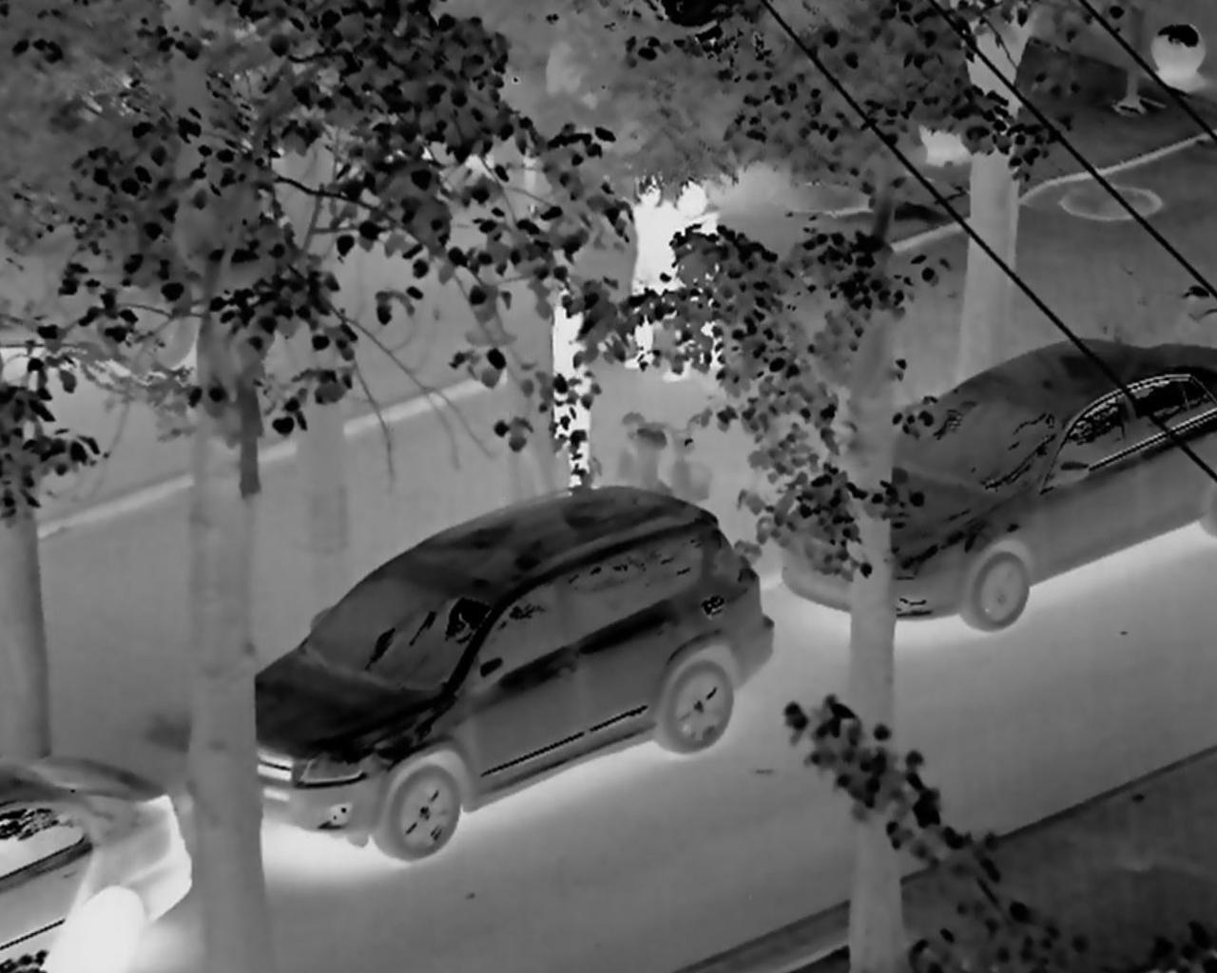person: (670, 180, 746, 364), (614, 164, 678, 382), (538, 278, 599, 495)
